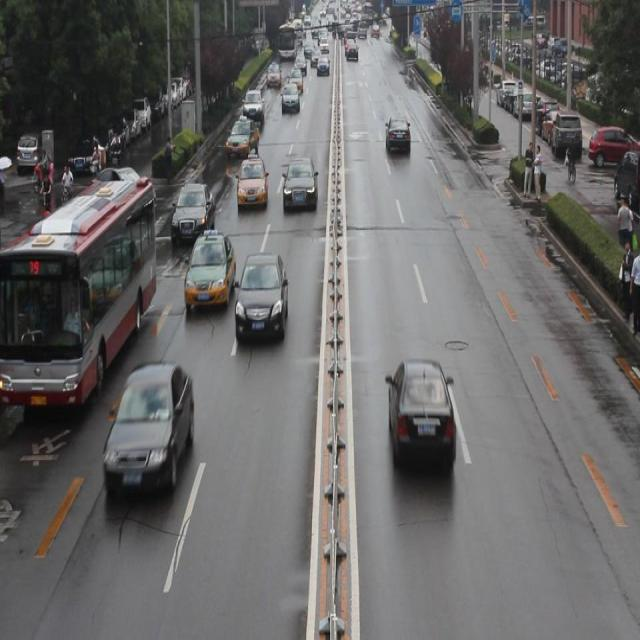car: (102, 359, 194, 506), (384, 357, 454, 482), (184, 227, 237, 315), (234, 254, 287, 340), (171, 180, 215, 247), (90, 164, 155, 209), (282, 158, 318, 208), (237, 154, 268, 207), (226, 115, 260, 156), (384, 115, 409, 158), (241, 88, 265, 125), (280, 83, 300, 113)
van: (1, 171, 156, 412)
